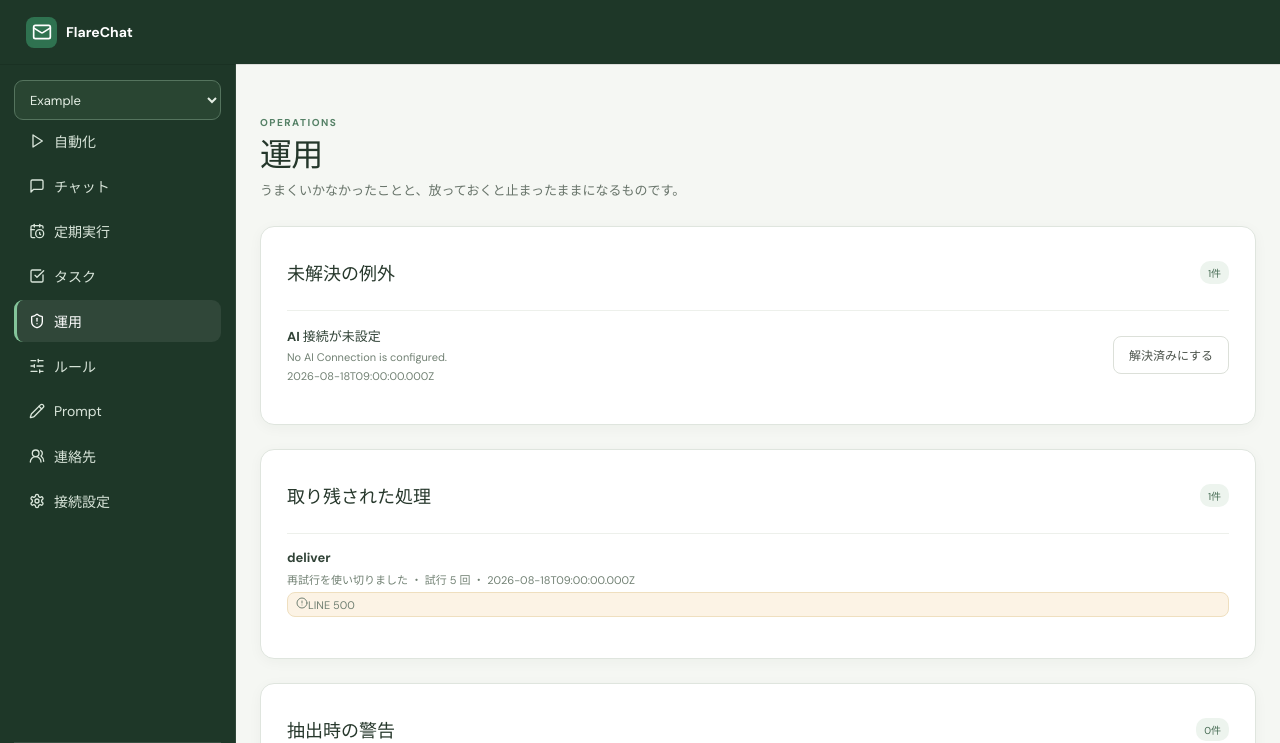
Operations screen › resolves an exception and re-reads the list
Click the button "解決済みにする" at (1171, 355), box x1=1113 y1=336 x2=1229 y2=374
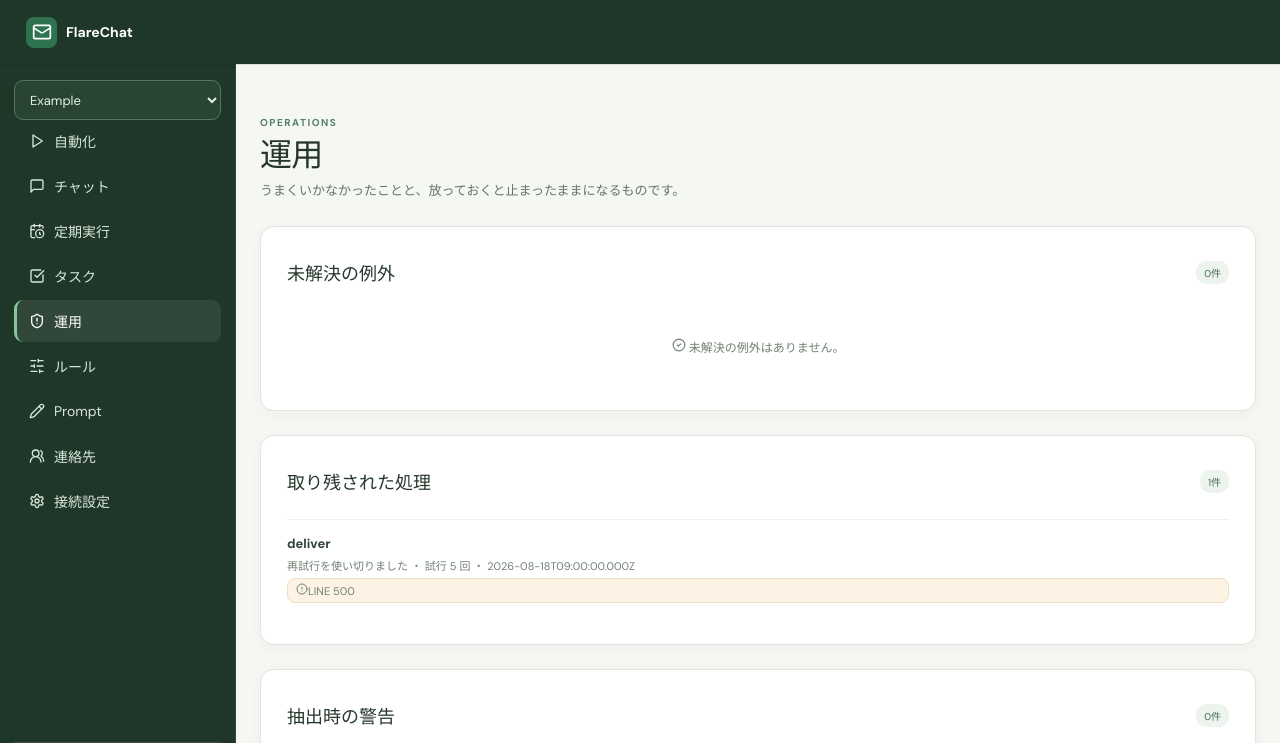
Now the text "未解決の例外はありません。" is shown, box x1=672 y1=338 x2=844 y2=356
